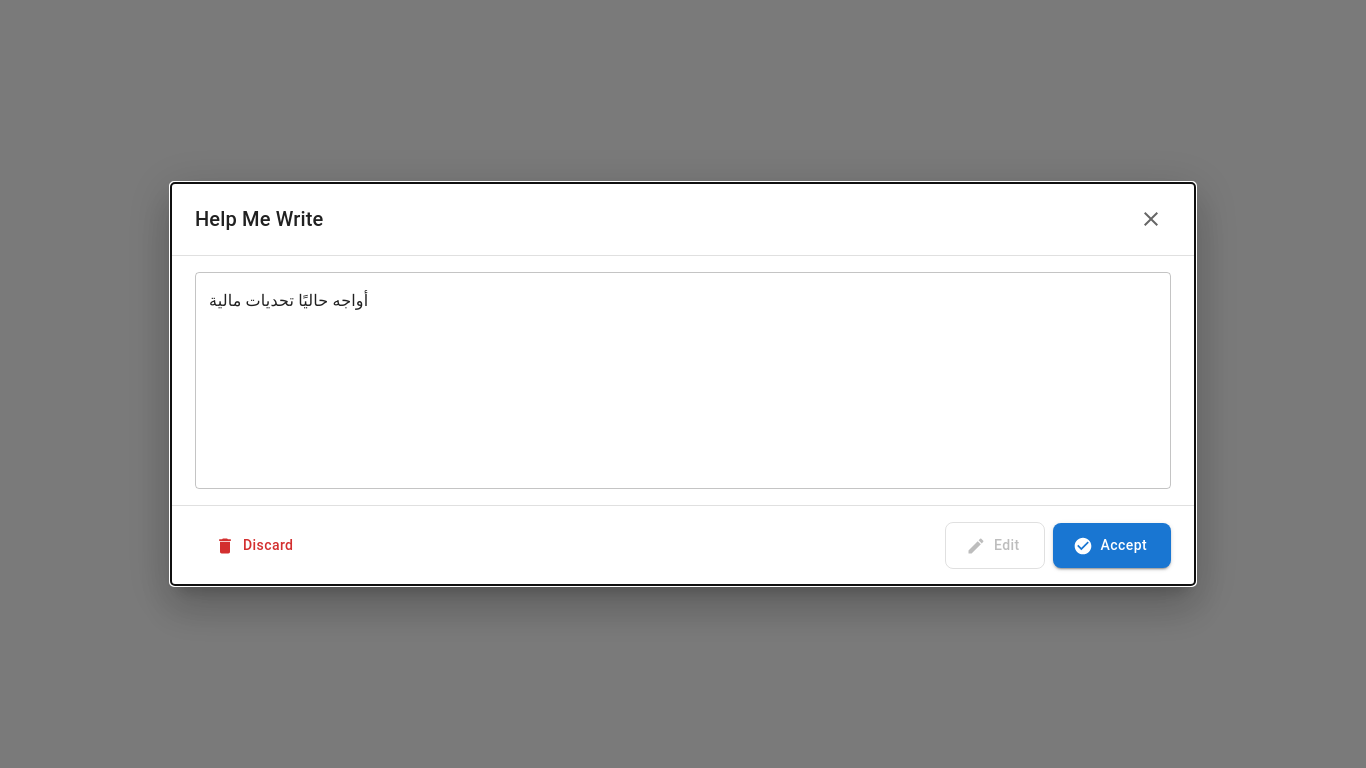
Test: SuggestionModal › Arabic Text Handling › should preserve Arabic text when editing
Type " كبيرة" into the text box.
click(683, 381); type(" كبيرة")  # box top-left (209, 289), bottom-right (1157, 473)
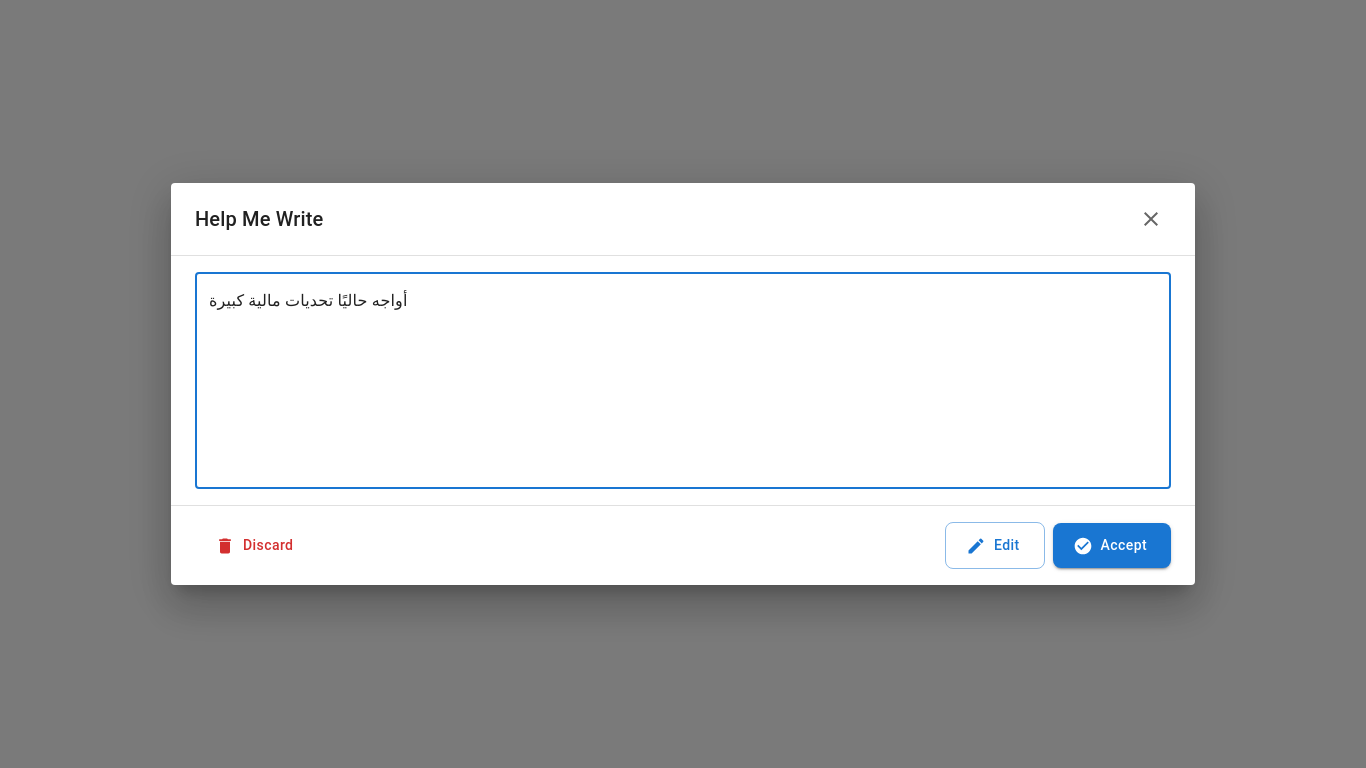
Check: the text box holds "أواجه حاليًا تحديات مالية كبيرة", box top-left (209, 289), bottom-right (1157, 473)
